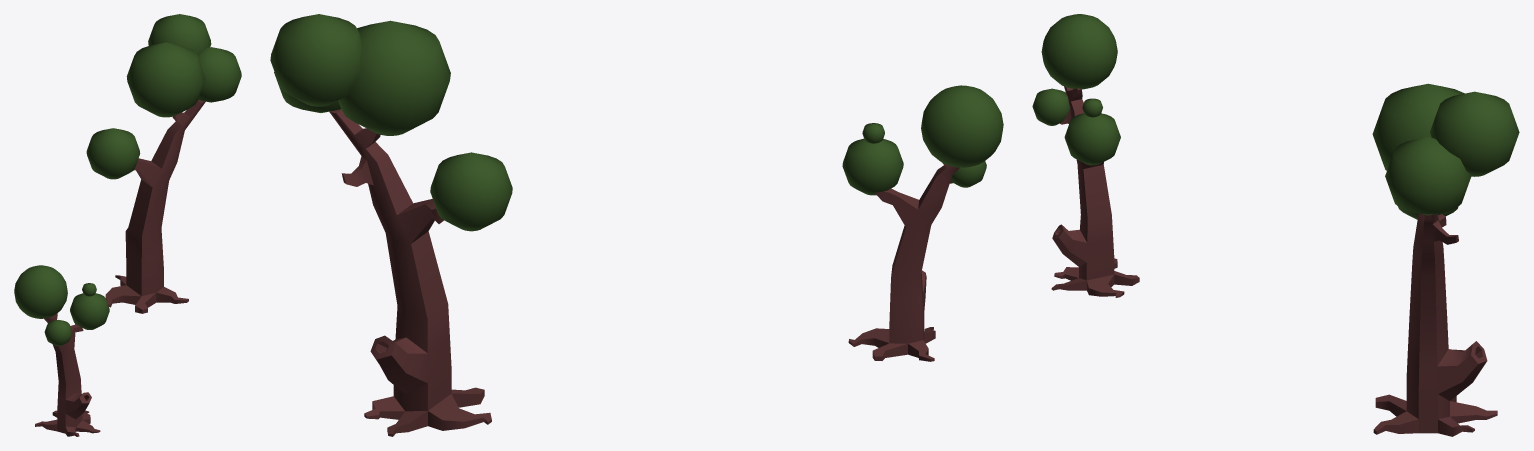
The model's file is Trees.fbx.
3 views of the same model, side by side, from view 1: azimuth 30°, elevation 25°; view 2: azimuth 150°, elevation 25°; view 3: azimuth 270°, elevation 25° (orthographic). The views are drawn at different scales.
Visible parts, largest first — view 1: pCube1, pSphere2, pCube3, pSphere4, pSphere3, pSphere1, pSphere10, pSphere5, pSphere7; view 2: pCube1, pSphere2, pCube3, pSphere10, pSphere4, pSphere3, pSphere5; view 3: pCube1, pCube3, pSphere10, pSphere1, pSphere4, pSphere2, pSphere5, pSphere7.
Boxes of the visible parts, x1=… form: pCube1: x1=105, y1=100, x2=205, y2=313; pSphere2: x1=126, y1=42, x2=205, y2=117; pCube3: x1=35, y1=313, x2=100, y2=436; pSphere4: x1=14, y1=265, x2=67, y2=318; pSphere3: x1=86, y1=128, x2=140, y2=179; pSphere1: x1=198, y1=47, x2=241, y2=102; pSphere10: x1=148, y1=14, x2=211, y2=55; pSphere5: x1=70, y1=293, x2=109, y2=329; pSphere7: x1=44, y1=320, x2=72, y2=346; pCube1: x1=329, y1=109, x2=491, y2=436; pSphere2: x1=338, y1=20, x2=450, y2=135; pCube3: x1=848, y1=163, x2=959, y2=361; pSphere10: x1=270, y1=14, x2=362, y2=106; pSphere4: x1=921, y1=85, x2=1003, y2=167; pSphere3: x1=430, y1=152, x2=512, y2=231; pSphere5: x1=842, y1=138, x2=903, y2=195; pCube1: x1=1373, y1=213, x2=1497, y2=436; pCube3: x1=1051, y1=86, x2=1139, y2=297; pSphere10: x1=1430, y1=91, x2=1519, y2=176; pSphere1: x1=1385, y1=137, x2=1471, y2=215; pSphere4: x1=1041, y1=14, x2=1117, y2=89; pSphere2: x1=1372, y1=83, x2=1464, y2=170; pSphere5: x1=1064, y1=113, x2=1120, y2=165; pSphere7: x1=1032, y1=88, x2=1070, y2=125.
Size of the model in its own units: 12.32 by 8.89 by 10.72.
